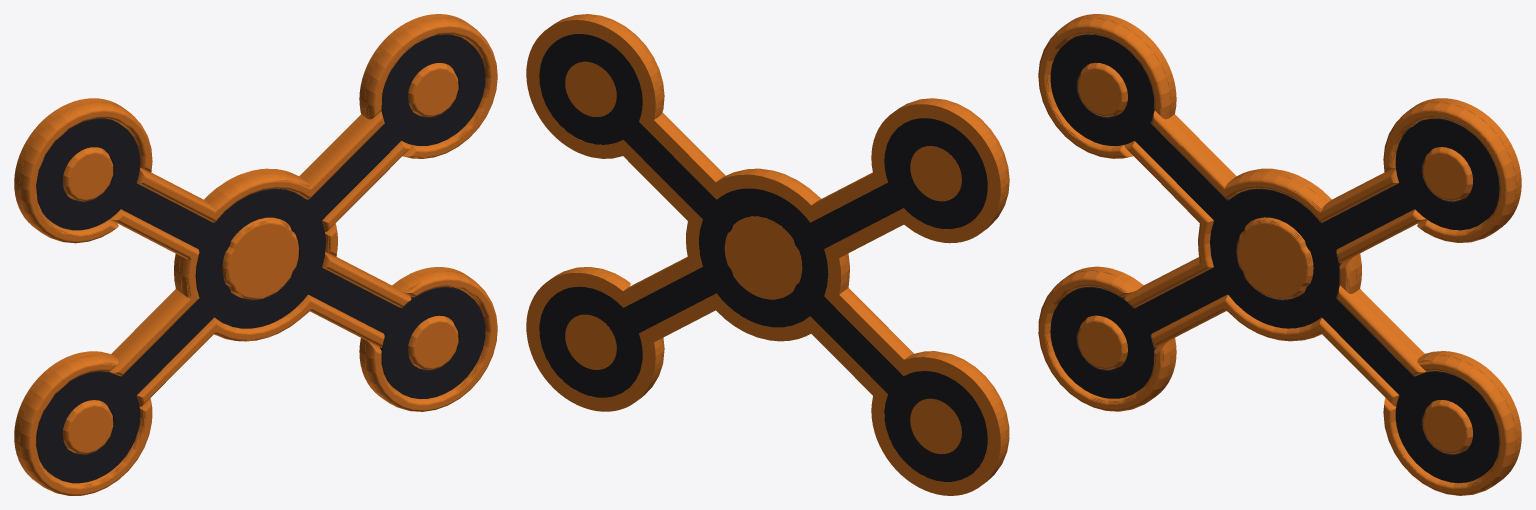
Rendered from plan_uses_t1.glb.
The picture shows the model from 3 angles, left to right: view 1: azimuth 30°, elevation 25°; view 2: azimuth 150°, elevation 25°; view 3: azimuth 330°, elevation 25°; orthographic projection.
Visible parts, largest first — view 1: mark, mark_channel; view 2: mark, mark_channel; view 3: mark, mark_channel.
Boxes of the visible parts, x1,y1,x2,y2 form: mark: (14, 14, 497, 495); mark_channel: (36, 34, 485, 483); mark: (526, 14, 1009, 495); mark_channel: (539, 34, 987, 481); mark: (1038, 14, 1521, 495); mark_channel: (1050, 34, 1499, 483).
Size of the model in its own units: 0.55 by 0.43 by 0.024.
